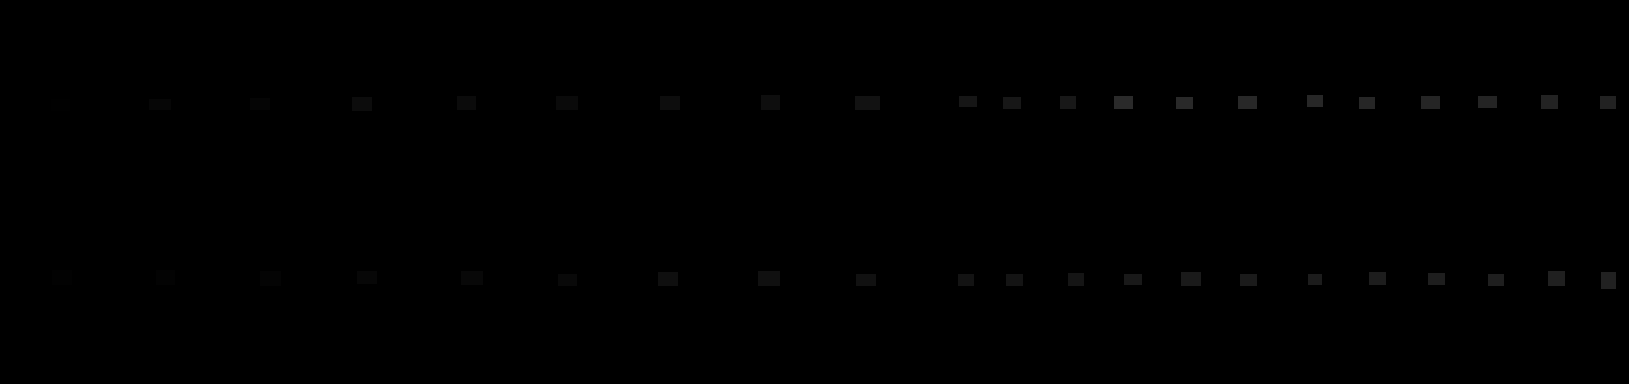light: (855, 95, 880, 110), (758, 271, 780, 286), (260, 271, 281, 286), (461, 271, 483, 285), (556, 95, 578, 110), (52, 270, 72, 285), (660, 95, 680, 110), (658, 272, 678, 286), (156, 270, 175, 285), (352, 97, 372, 111), (1181, 272, 1201, 286), (457, 95, 476, 110), (762, 95, 780, 110), (357, 271, 377, 284), (1114, 95, 1133, 109), (149, 99, 171, 110), (1548, 271, 1565, 286), (1421, 95, 1440, 109), (1238, 95, 1257, 109), (250, 98, 270, 110), (856, 274, 876, 286), (1601, 272, 1615, 289), (1541, 95, 1558, 109), (51, 99, 70, 111), (558, 274, 577, 286), (1003, 97, 1021, 109), (1478, 95, 1497, 108), (1060, 95, 1076, 109), (1369, 272, 1386, 285), (1006, 274, 1023, 286), (1068, 273, 1084, 286), (1600, 95, 1615, 109), (958, 274, 974, 286), (1240, 274, 1257, 286), (1428, 273, 1445, 285), (1488, 274, 1504, 286), (1359, 97, 1376, 109), (1176, 97, 1193, 109), (959, 95, 977, 107), (1124, 274, 1142, 285), (1307, 95, 1323, 107), (1308, 274, 1321, 285)
